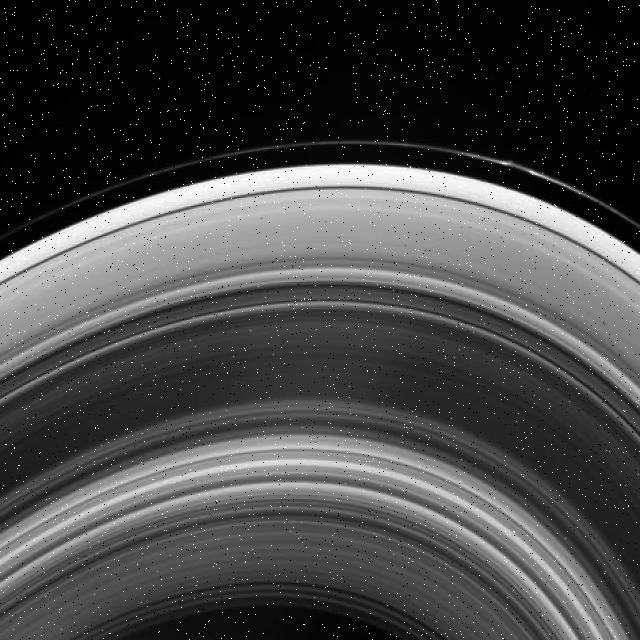Saturn: (0, 138, 640, 640)
